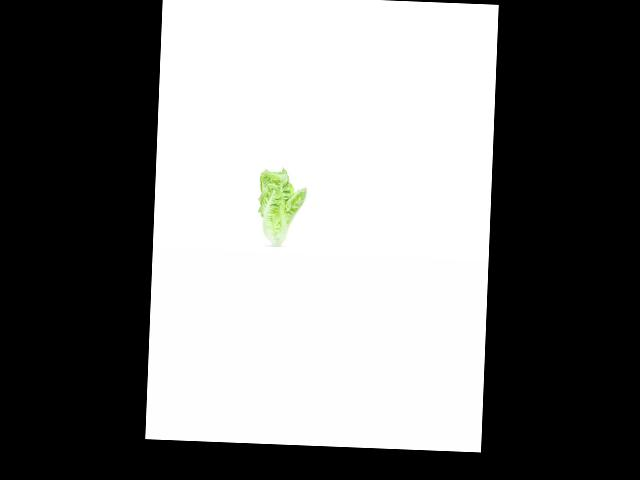lettuce: (253, 166, 308, 244)
